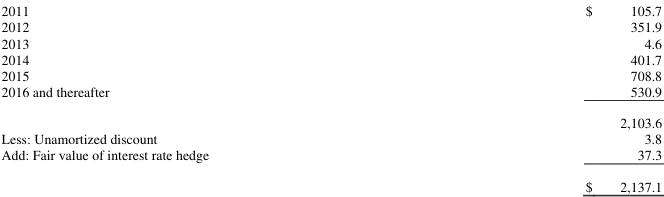table: (0, 0, 661, 194)
table column: (0, 0, 396, 194), (396, 0, 661, 194)
table row: (0, 169, 661, 194), (0, 82, 661, 106), (0, 145, 661, 169), (0, 106, 661, 129), (0, 0, 661, 18), (0, 18, 661, 34), (0, 34, 661, 50), (0, 50, 661, 66), (0, 66, 661, 82), (0, 129, 661, 145)
